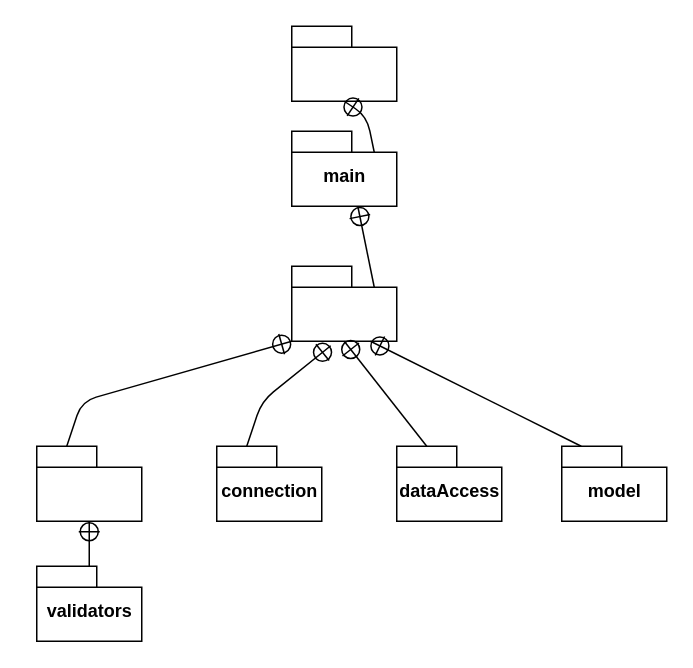
Some shapes in this 693 by 668 pixel diagram are drawn without their labels. The shapes that lost their labels are listed below. From the top down, each one's box as (x1, y1, x2, y2) in pixels, then its label:
(290, 25, 397, 101): assignment1
(290, 265, 397, 341): java
(35, 445, 142, 521): businessLogic
